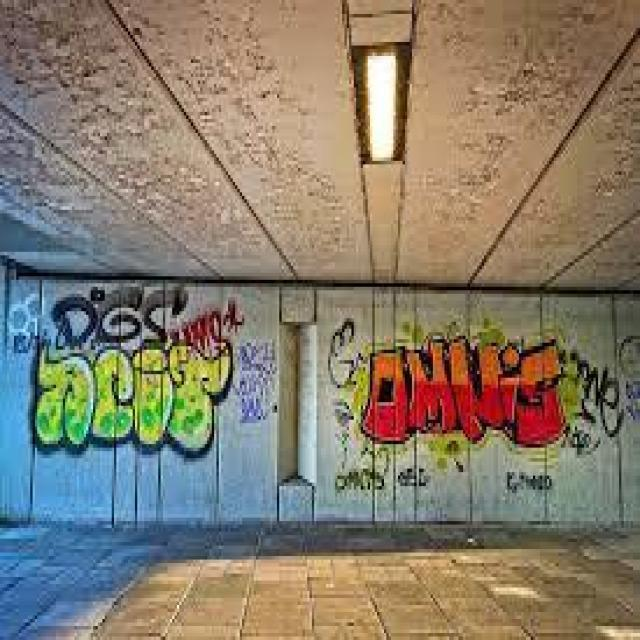nonspitting: (326, 314, 640, 496), (7, 286, 280, 459)
